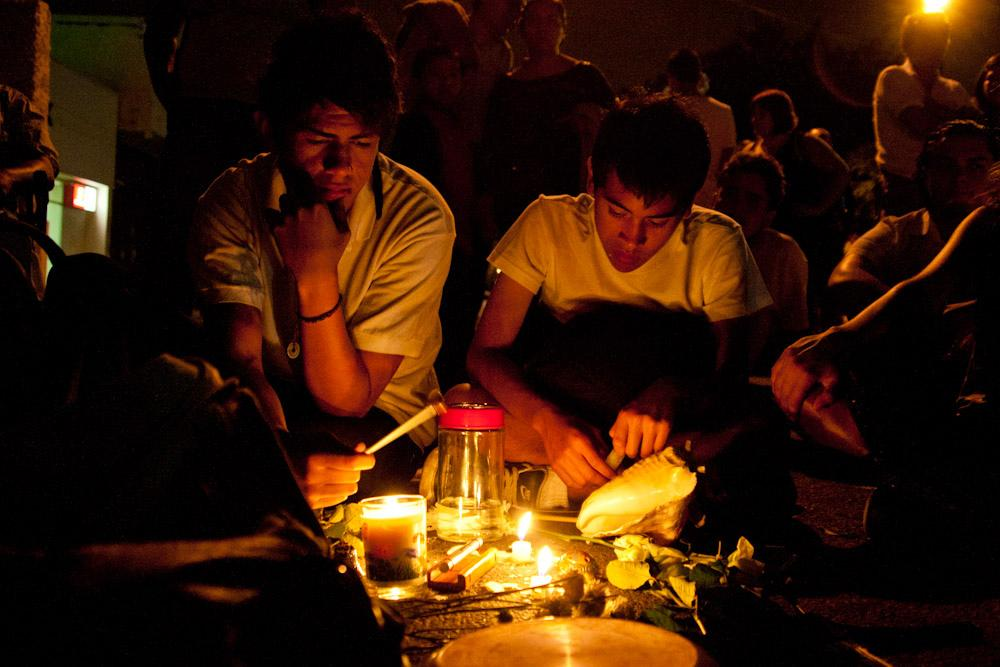fire: (512, 517, 550, 575), (365, 492, 415, 512)
